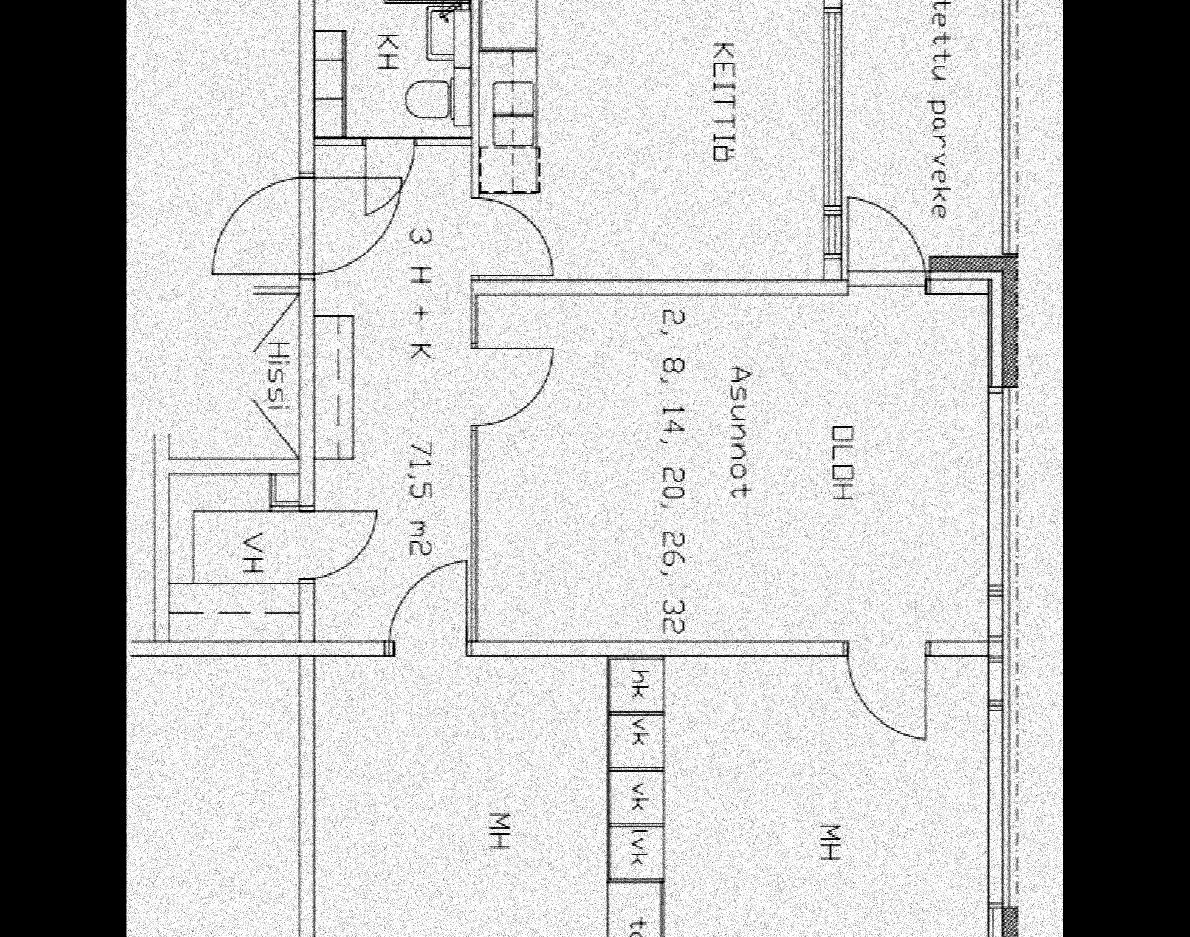door: (213, 169, 402, 282), (454, 342, 560, 434), (844, 632, 924, 753), (381, 556, 470, 658), (460, 191, 558, 282), (852, 182, 926, 288), (305, 498, 386, 586), (354, 132, 419, 215)
window: (988, 394, 1016, 904), (820, 1, 840, 255)
zone: (476, 285, 992, 638), (468, 0, 815, 275), (662, 662, 991, 937), (316, 653, 603, 937), (312, 147, 470, 636), (154, 271, 300, 644), (849, 0, 1007, 271), (316, 0, 467, 139), (604, 658, 664, 714), (610, 881, 663, 937), (613, 718, 666, 769), (606, 830, 662, 876), (613, 774, 666, 819)
